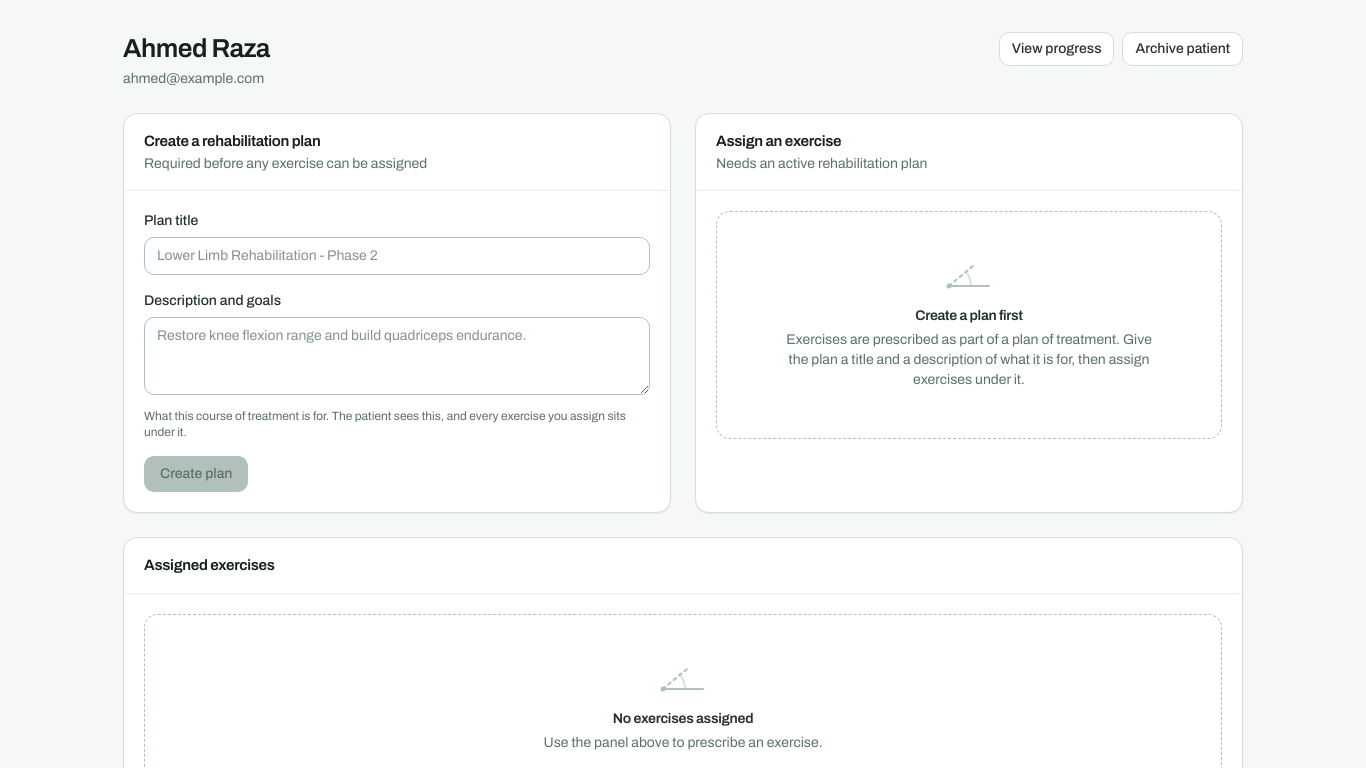
Archiving a patient › surfaces a refusal instead of navigating away
Click the button "Archive patient": (1183, 49) [1122,32,1243,66]
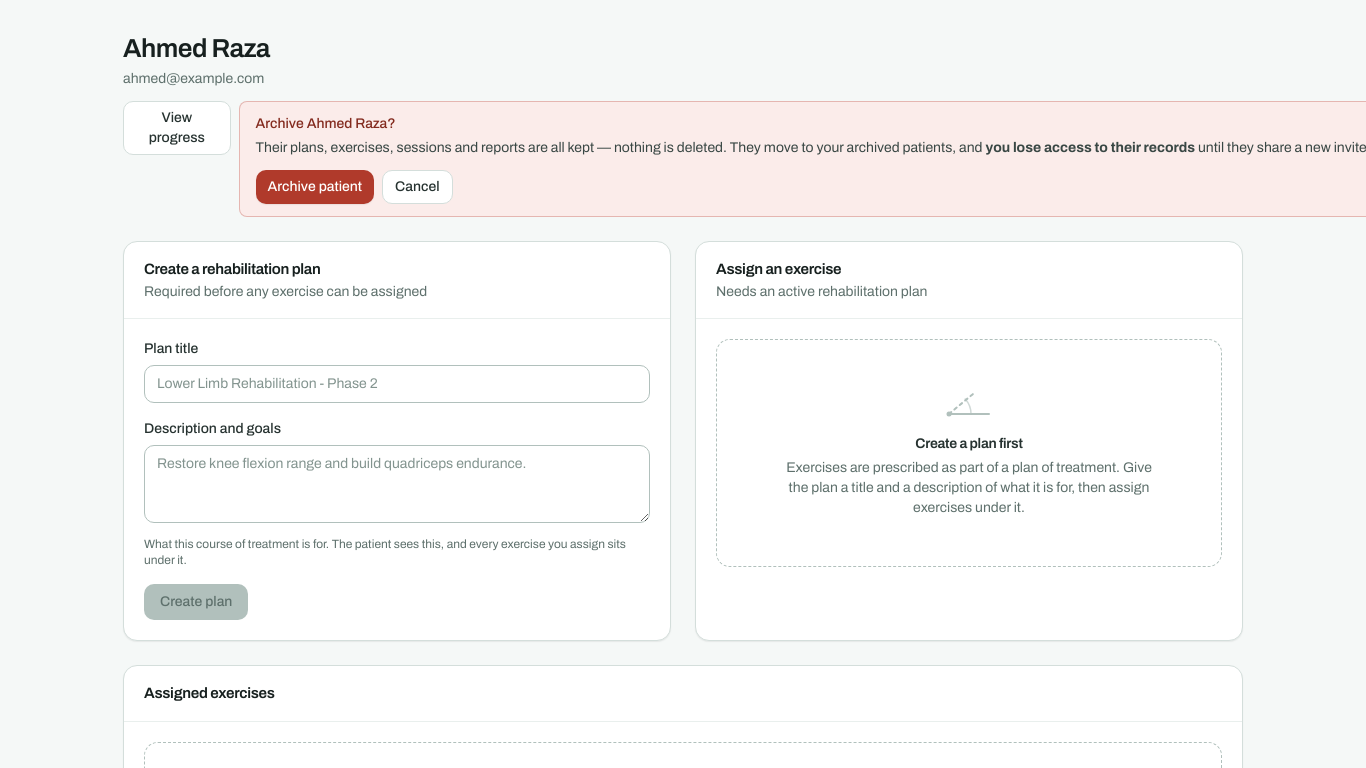
Click the button "Archive patient": (315, 186) [256,170,374,204]
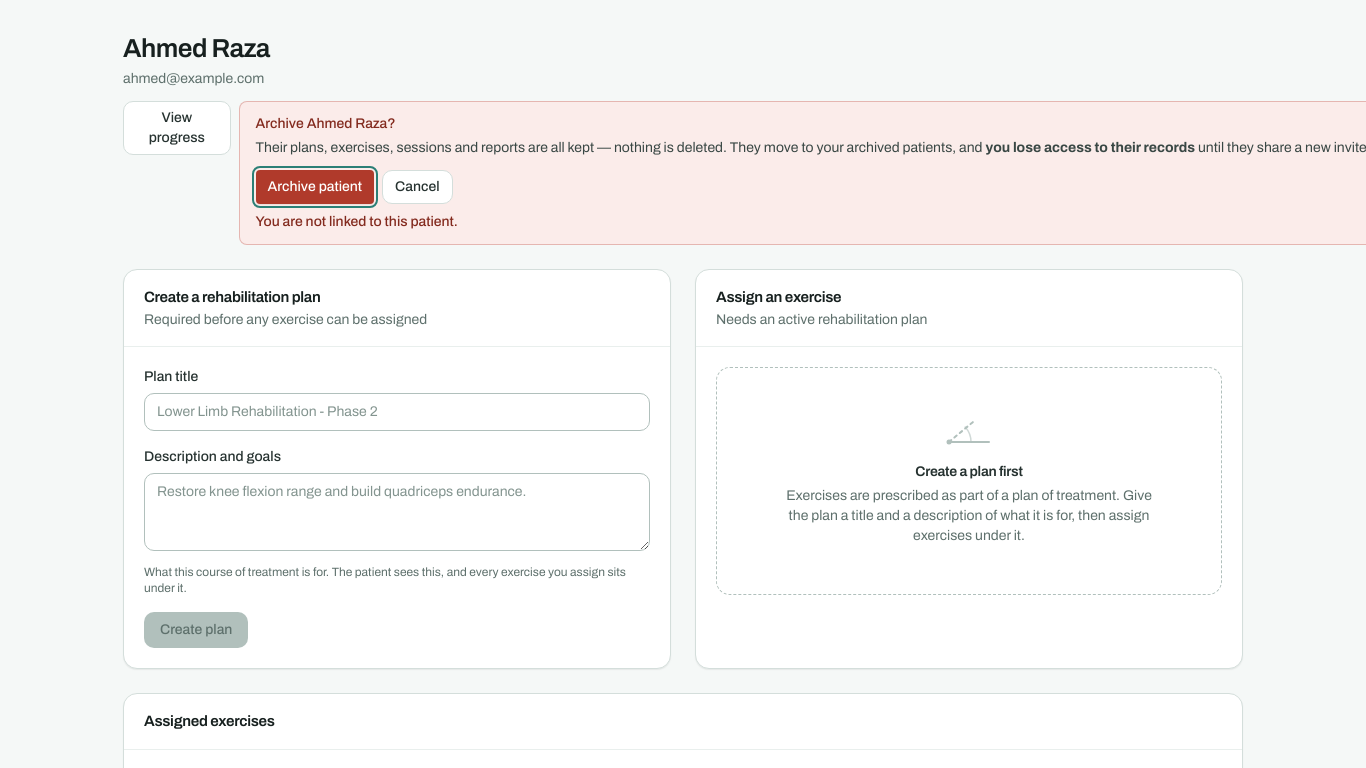
expect the message "You are not linked to this patient." is shown: met, box [256,214,458,228]
